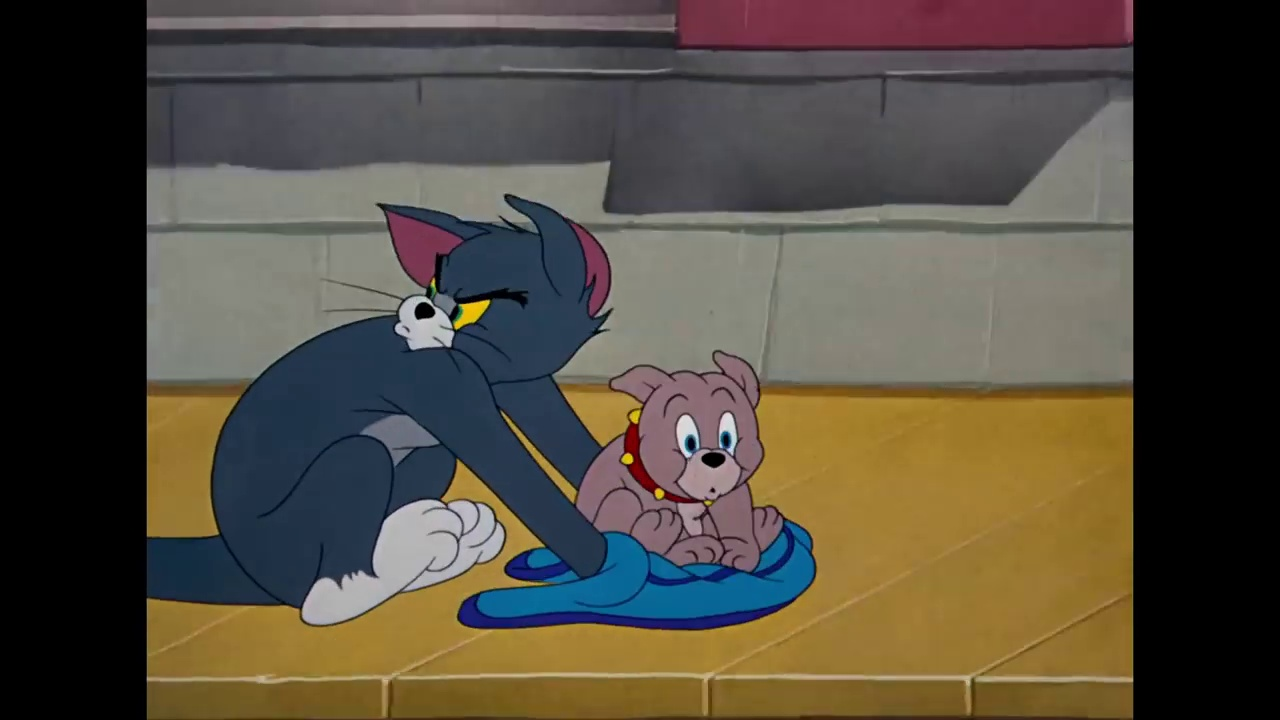tom: (373, 191, 613, 382)
